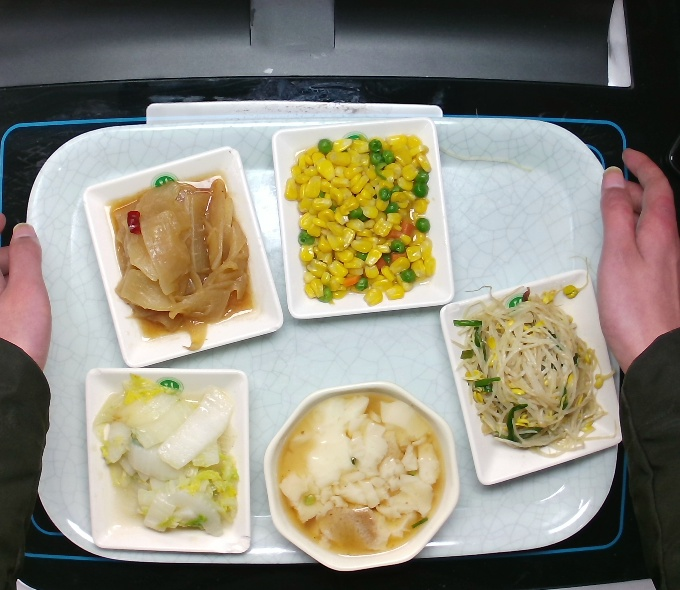wcq-DaBaiCai: (90, 369, 246, 539)
wcq-DongGua: (102, 169, 257, 354)
wcq-DouYa: (446, 252, 628, 462)
wcq-ShuiZhengDan: (273, 389, 448, 562)
wcq-TianMiTianDou: (282, 127, 442, 309)
